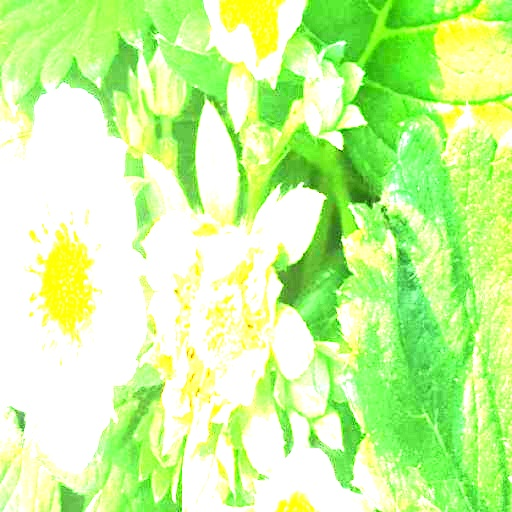Blossom Blight: (20, 198, 108, 372), (169, 246, 266, 403)
